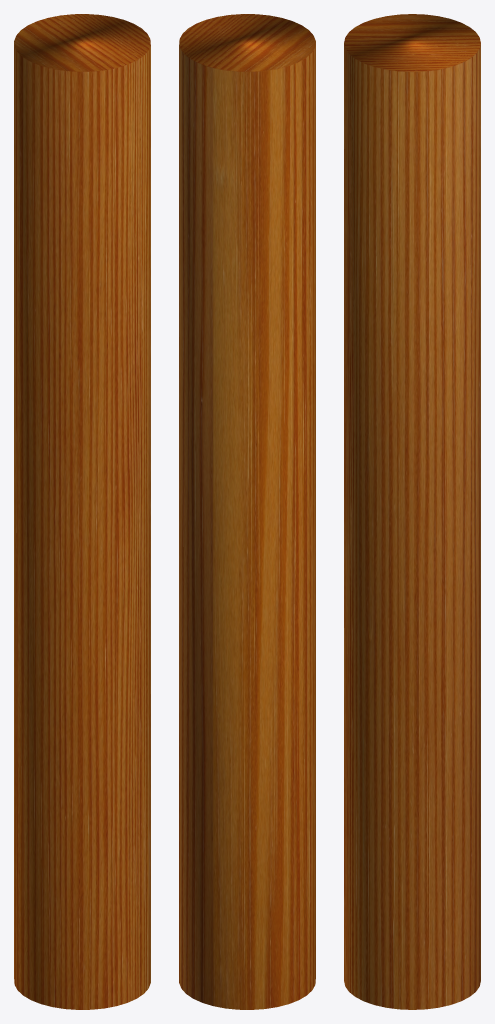
The model's file is pole.fbx.
The picture shows the model from 3 angles, left to right: view 1: azimuth 30°, elevation 25°; view 2: azimuth 150°, elevation 25°; view 3: azimuth 270°, elevation 25°; orthographic projection.
Visible parts, largest first — view 1: Cylinder; view 2: Cylinder; view 3: Cylinder.
Part boxes in pixels (left/top/right/bottom): Cylinder: left=14, top=14, right=150, bottom=1009; Cylinder: left=179, top=14, right=315, bottom=1009; Cylinder: left=344, top=14, right=480, bottom=1009.
Bounding box in the file's own units: 76.67 × 579 × 76.67.
